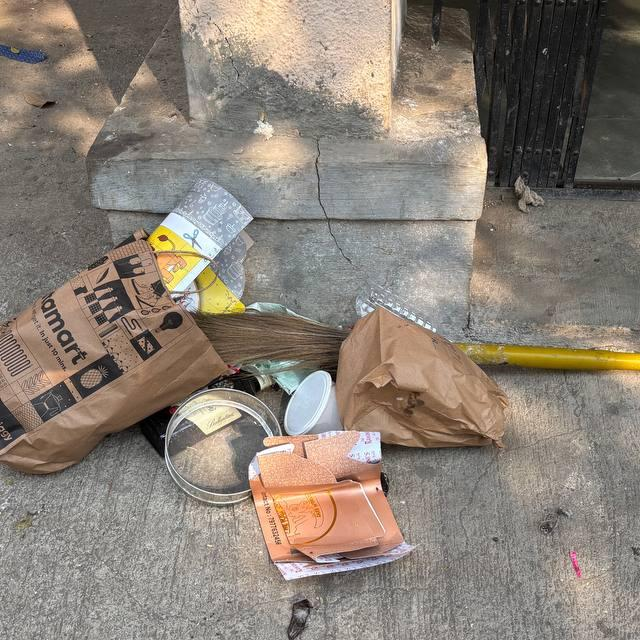plastic: (158, 160, 265, 314), (164, 400, 259, 503), (272, 362, 335, 437)
